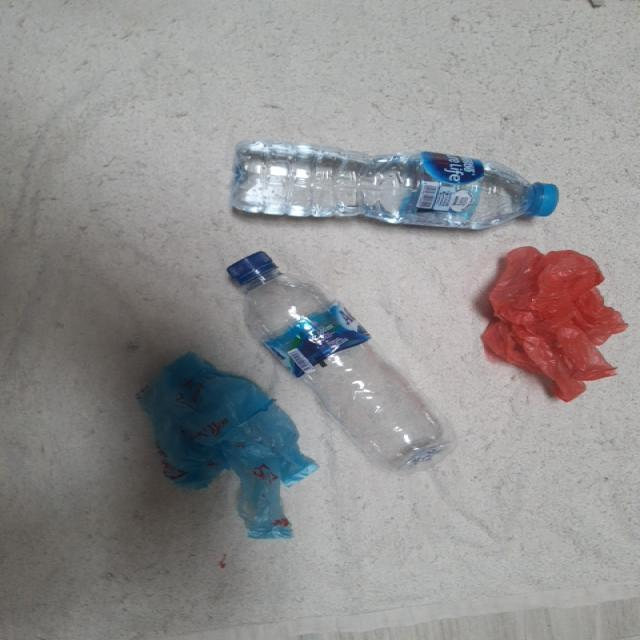Single-layer Plastic: (138, 352, 318, 539), (482, 246, 626, 401)
